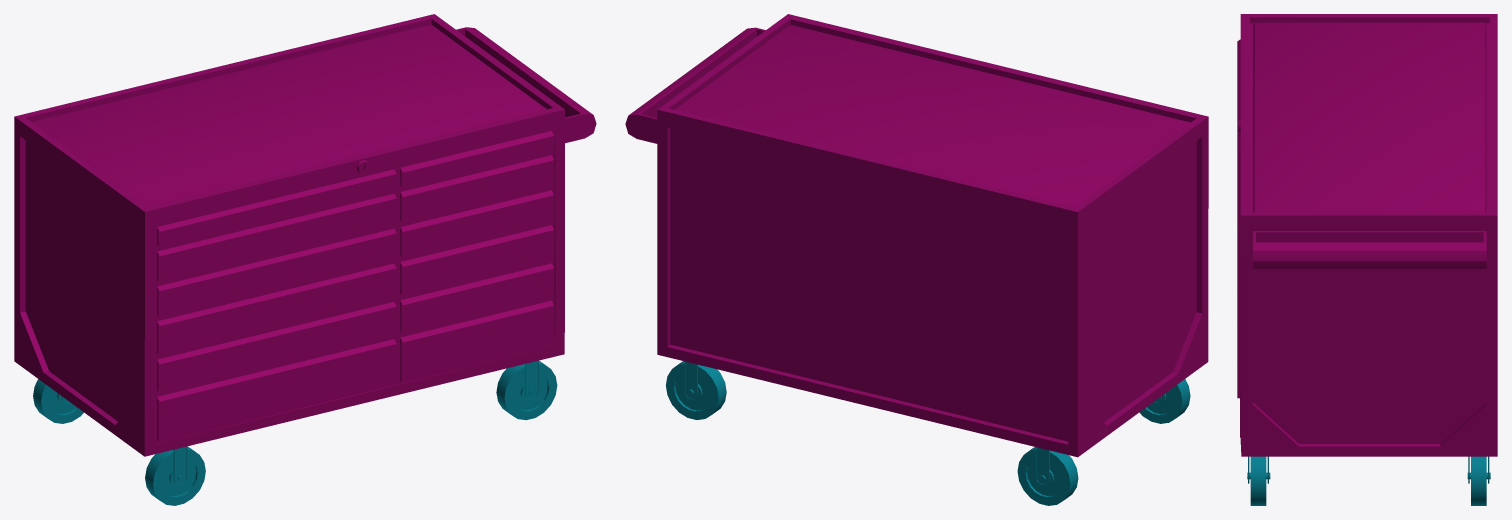
The model's file is Tool_Box.fbx.
3 renders of one model, left to right at view 1: azimuth 30°, elevation 25°; view 2: azimuth 150°, elevation 25°; view 3: azimuth 270°, elevation 25°, orthographic.
Parts seen in each view (by area): view 1: ToolBoxBody, Wheel_011, Wheel_009, Wheel_008; view 2: ToolBoxBody, Wheel_010, Wheel_008, Wheel_009; view 3: ToolBoxBody, Wheel_011, Wheel_010.
Boxes of the visible parts, box(x1,y1,x2,y2) form: ToolBoxBody: box(14, 14, 596, 456); Wheel_011: box(496, 360, 557, 420); Wheel_009: box(145, 446, 205, 505); Wheel_008: box(33, 379, 83, 423); ToolBoxBody: box(625, 14, 1208, 457); Wheel_010: box(666, 361, 726, 419); Wheel_008: box(1017, 447, 1078, 505); Wheel_009: box(1139, 379, 1190, 423); ToolBoxBody: box(1237, 14, 1497, 456); Wheel_011: box(1247, 456, 1270, 505); Wheel_010: box(1467, 456, 1490, 505).
Bounding box in the file's own units: 2.56 × 1.28 × 1.63.
